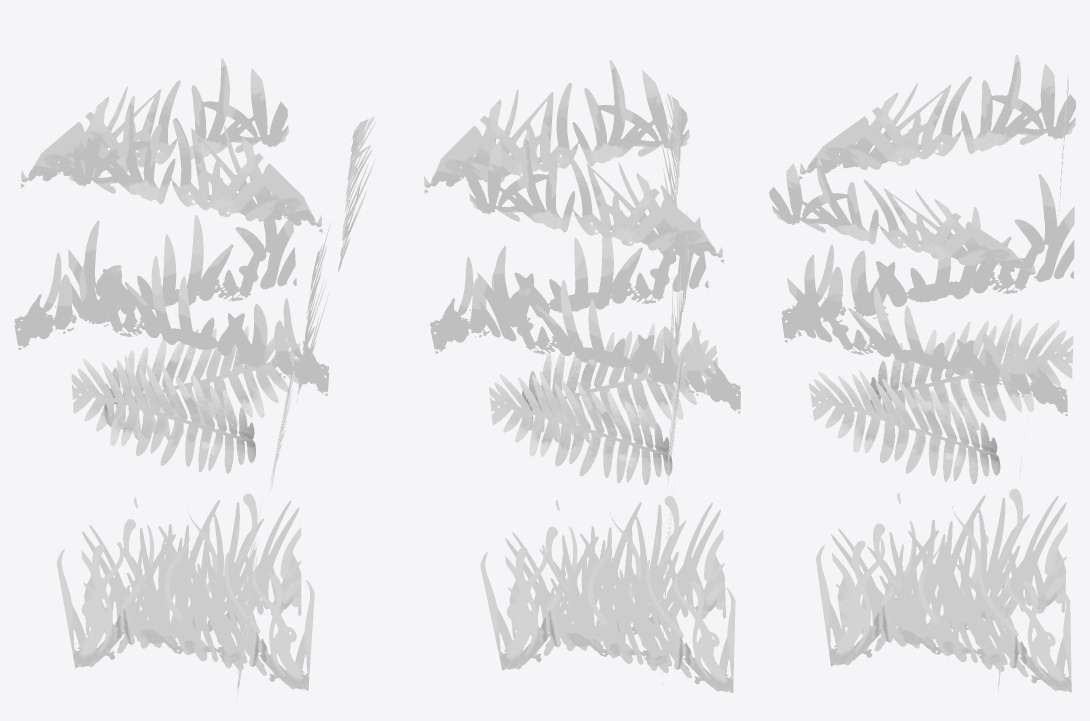
The model's file is Reeds.fbx.
The picture shows the model from 3 angles, left to right: view 1: azimuth 30°, elevation 25°; view 2: azimuth 150°, elevation 25°; view 3: azimuth 270°, elevation 25°; orthographic projection. The views are drawn at different scales.
Visible parts, largest first — view 1: Reeds; view 2: Reeds; view 3: Reeds.
Boxes of the visible parts, x1=… form: Reeds: x1=14, y1=58, x2=376, y2=704; Reeds: x1=424, y1=60, x2=740, y2=692; Reeds: x1=769, y1=55, x2=1075, y2=701.
Bounding box in the file's own units: 25.91 × 45.14 × 20.14.
